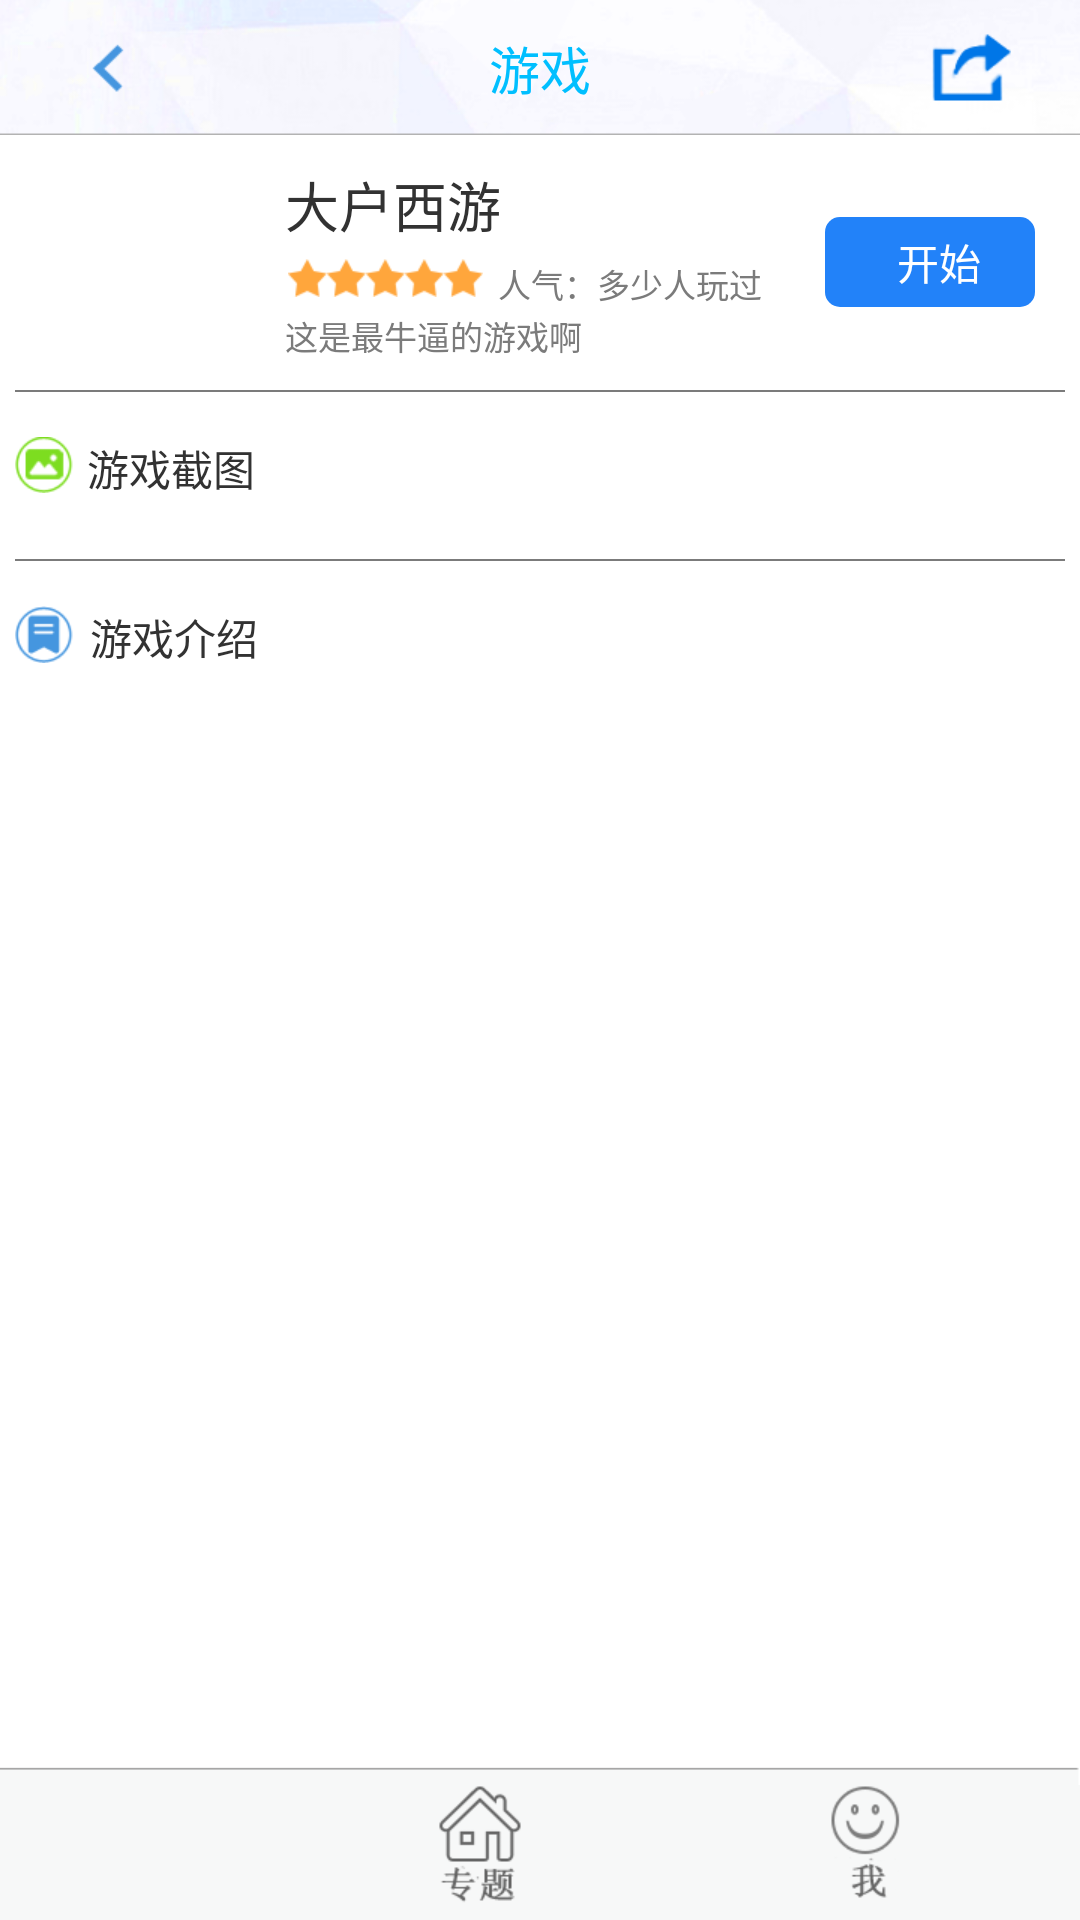

Screen size 1080×1920. Icon name, then its box in pixels as bbox(x1, y1, x2, y2):
nav: bbox(439, 1786, 521, 1902), bbox(831, 1786, 899, 1898)
return: bbox(93, 45, 123, 92)
xingxing: bbox(288, 259, 327, 297), bbox(327, 259, 366, 297), bbox(366, 259, 405, 297), bbox(405, 259, 444, 297), bbox(444, 259, 483, 297)
